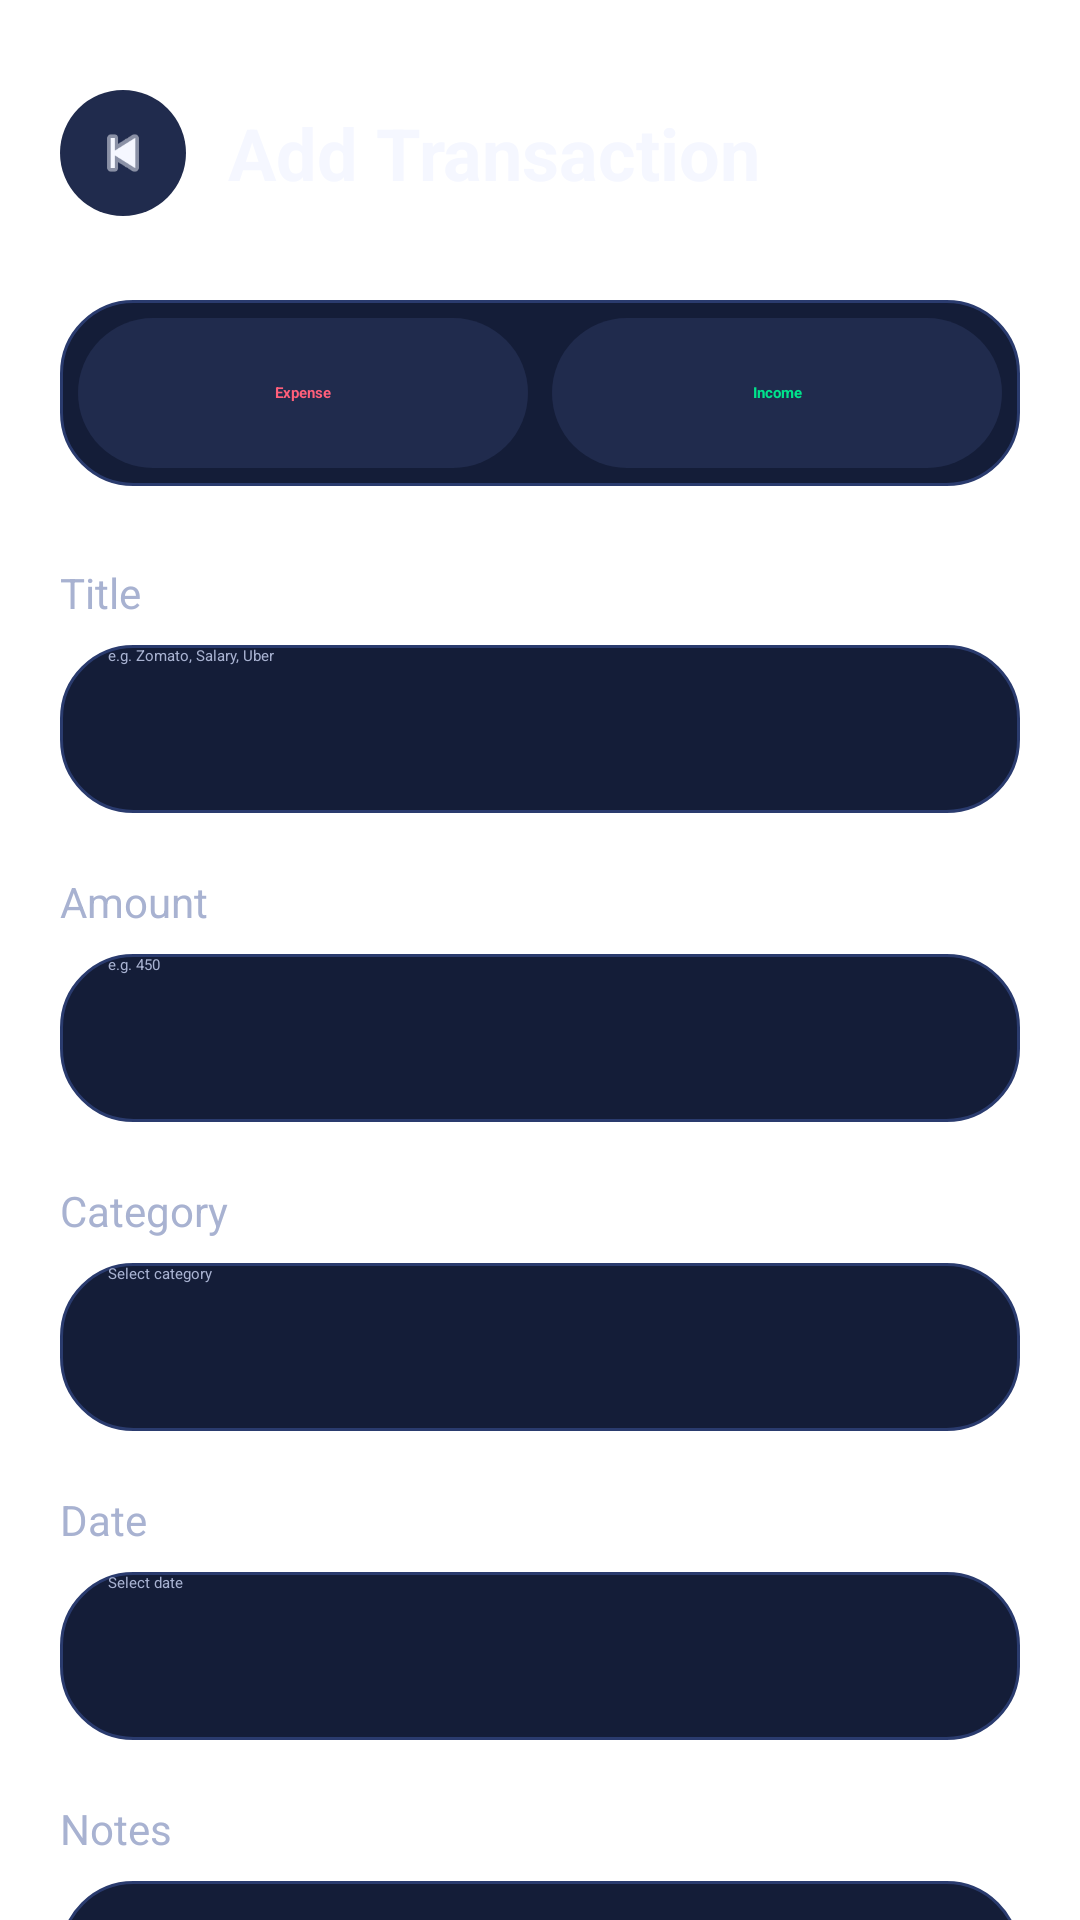

Icon click points for this 1080 × 1920 phone screenshot, format (x,y):
previous: (123,153)
